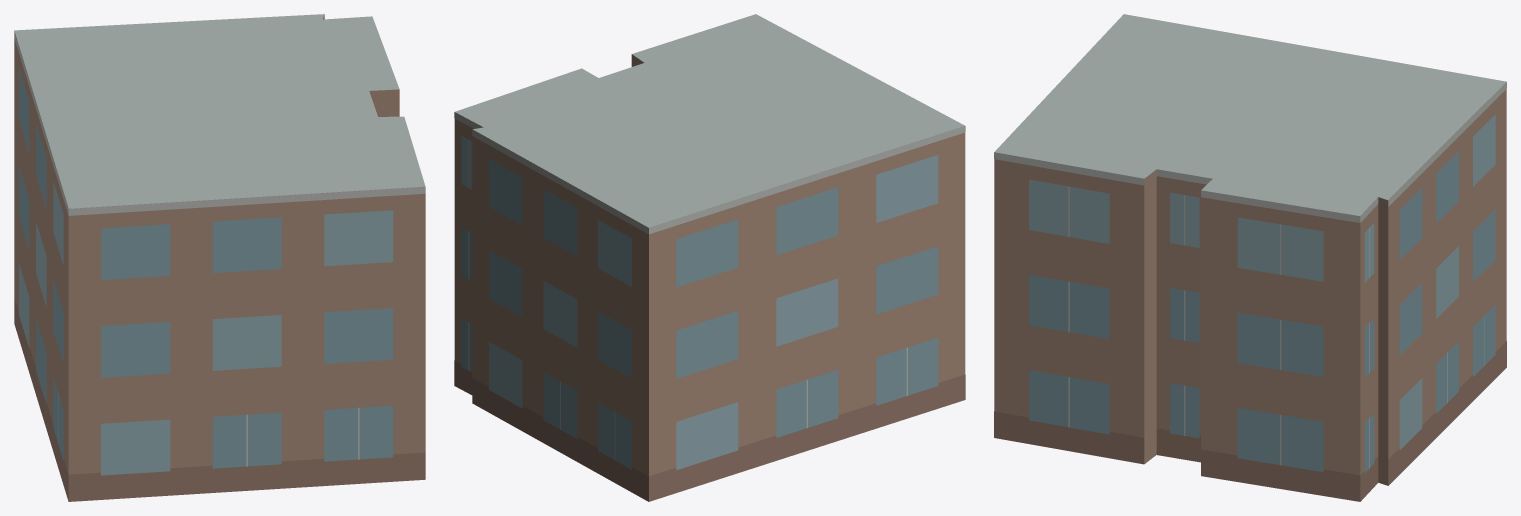
File: survey-upis-32520787.glb
3 views of the same model, side by side, from view 1: azimuth 30°, elevation 25°; view 2: azimuth 150°, elevation 25°; view 3: azimuth 270°, elevation 25° (orthographic). The views are drawn at different scales.
Parts seen in each view (by area): view 1: survey-upis-32520787.tmp; view 2: survey-upis-32520787.tmp; view 3: survey-upis-32520787.tmp.
Boxes of the visible parts, x1,y1,x2,y2 form: survey-upis-32520787.tmp: (14, 14, 425, 501); survey-upis-32520787.tmp: (454, 14, 965, 501); survey-upis-32520787.tmp: (994, 14, 1506, 501).
Bounding box in the file's own units: 15.34 × 10.1 × 16.43.
